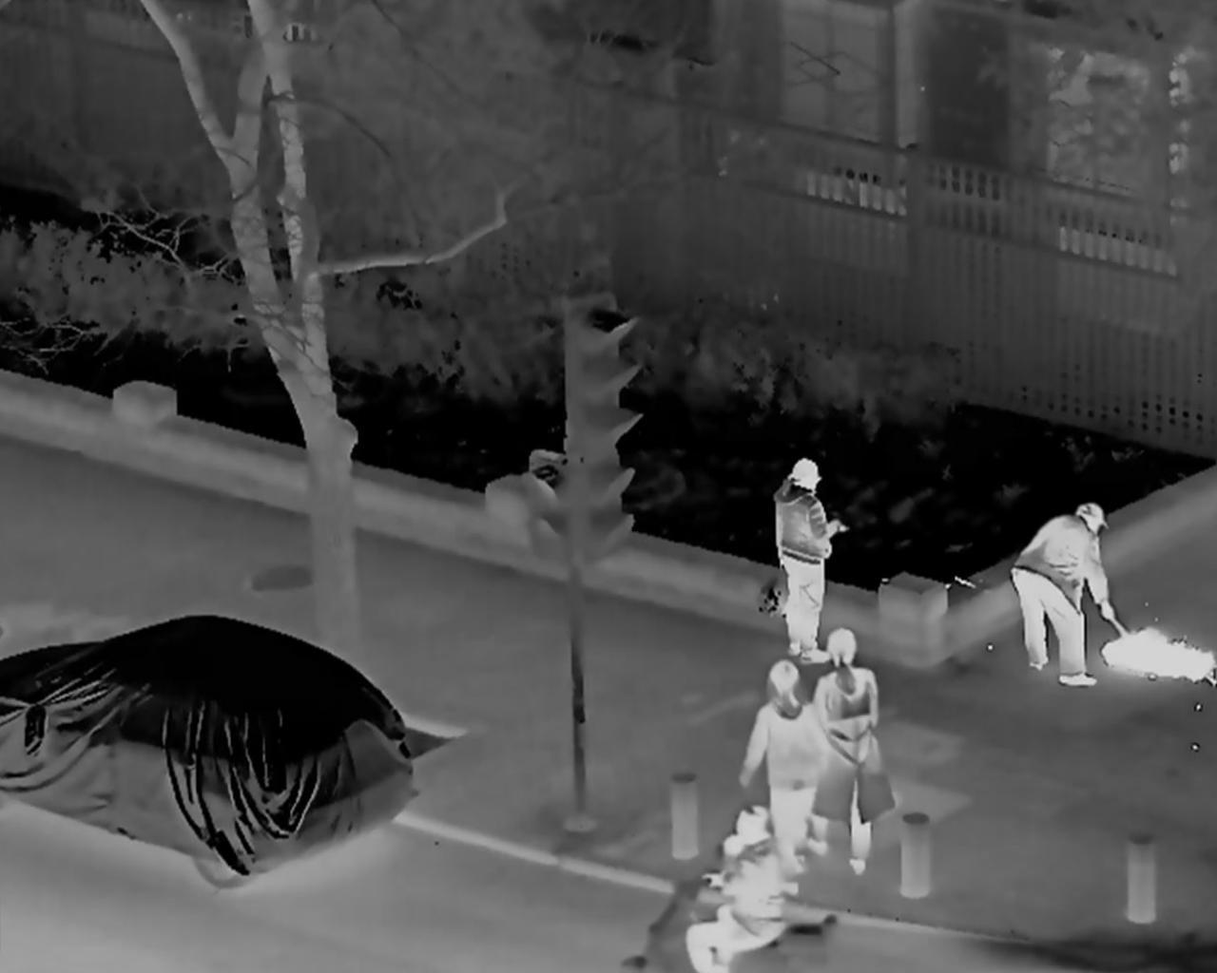person: (1010, 499, 1115, 685), (744, 660, 824, 868), (815, 627, 879, 874), (689, 805, 781, 973), (773, 459, 840, 669)
